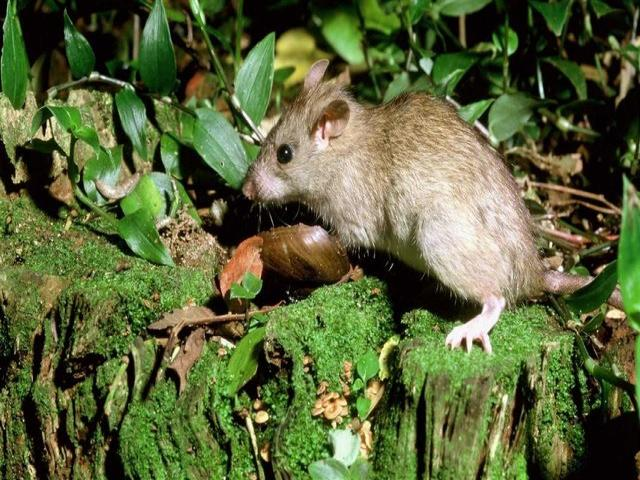Tikus: (242, 60, 614, 353)
